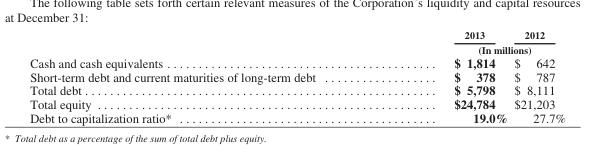table: (29, 28, 564, 124)
table column: (29, 28, 384, 124), (384, 28, 510, 124), (510, 28, 564, 124)
table column header: (29, 28, 564, 55)
table row: (29, 28, 564, 42), (29, 55, 564, 69), (29, 69, 564, 83), (29, 96, 564, 110), (29, 110, 564, 124), (29, 42, 564, 55), (29, 83, 564, 96)
table spanning cell: (384, 42, 564, 55)
